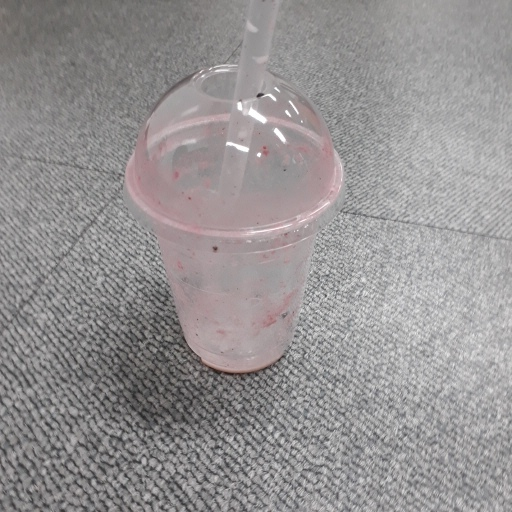Plastic_2: (119, 2, 351, 372)
